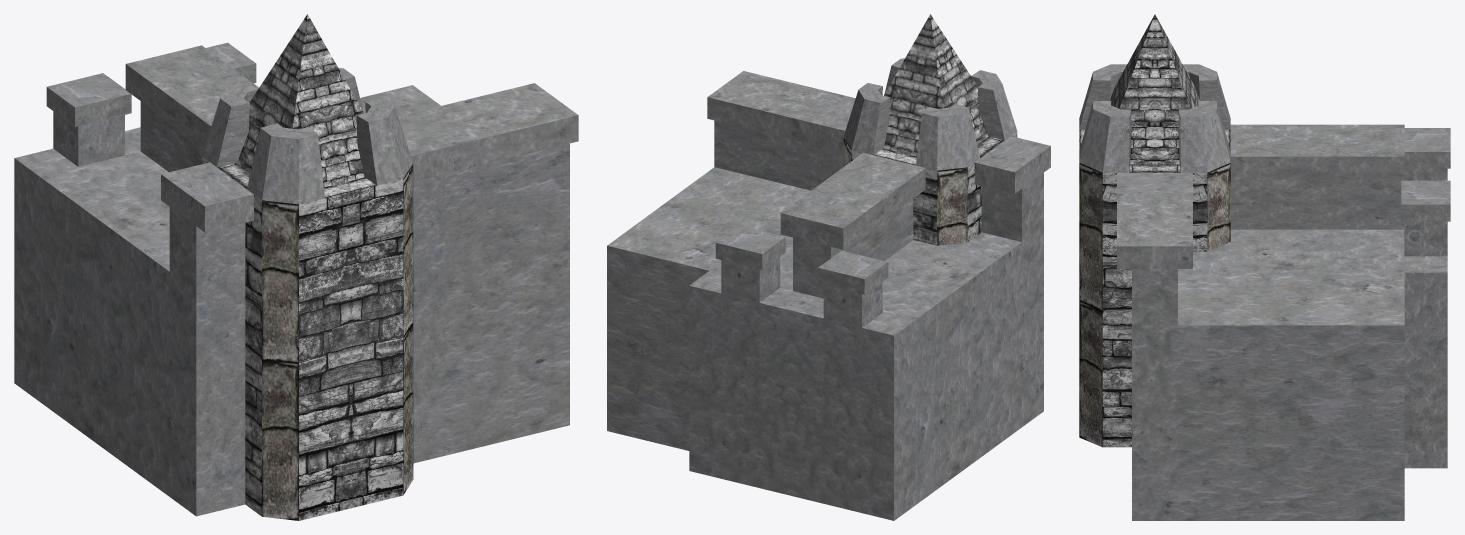
The model's file is ara-wall.fbx.
The picture shows the model from 3 angles, left to right: view 1: azimuth 30°, elevation 25°; view 2: azimuth 150°, elevation 25°; view 3: azimuth 270°, elevation 25°; orthographic projection. The views are drawn at different scales.
Visible parts, largest first — view 1: connector.L, ara-wall, connector.Corner, connector.R; view 2: connector.L, connector.Corner, connector.R, ara-wall; view 3: connector.Corner, ara-wall, connector.R, connector.L.
Part boxes in pixels (x1=…): connector.L: x1=14, y1=73, x2=253, y2=516; ara-wall: x1=202, y1=14, x2=413, y2=520; connector.Corner: x1=125, y1=45, x2=578, y2=463; connector.R: x1=139, y1=42, x2=453, y2=463; connector.L: x1=791, y1=136, x2=1050, y2=520; connector.Corner: x1=607, y1=71, x2=925, y2=450; connector.R: x1=689, y1=96, x2=855, y2=495; ara-wall: x1=843, y1=14, x2=1017, y2=245; connector.Corner: x1=1117, y1=124, x2=1404, y2=520; ara-wall: x1=1079, y1=14, x2=1230, y2=447; connector.R: x1=1117, y1=172, x2=1450, y2=468; connector.L: x1=1404, y1=128, x2=1450, y2=180.
Size of the model in its own units: 300 by 355 by 297.
